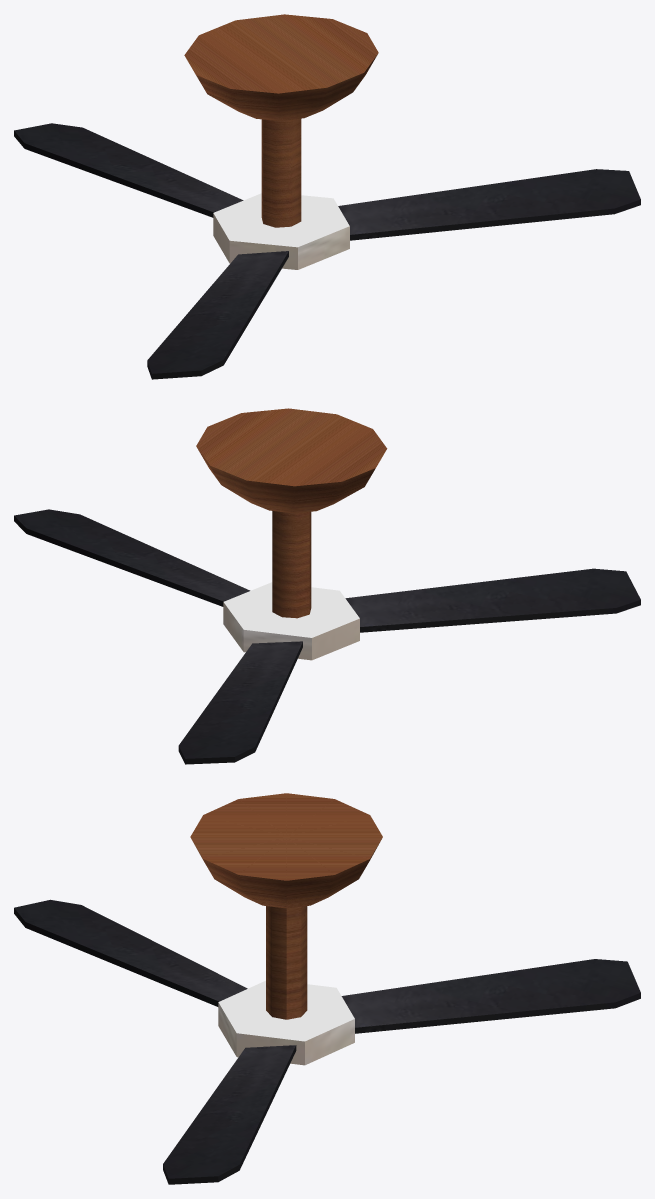
File: LabFan.fbx
3 renders of one model, top to bottom at view 1: azimuth 30°, elevation 25°; view 2: azimuth 150°, elevation 25°; view 3: azimuth 270°, elevation 25°, orthographic. The views are drawn at different scales.
Parts seen in each view (by area): view 1: FanBlade, FanBase; view 2: FanBlade, FanBase; view 3: FanBlade, FanBase.
Part boxes in pixels (left/top/right/bottom): FanBlade: left=14, top=123, right=640, bottom=379; FanBase: left=184, top=14, right=378, bottom=227; FanBlade: left=14, top=509, right=640, bottom=764; FanBase: left=196, top=408, right=387, bottom=618; FanBlade: left=14, top=899, right=640, bottom=1184; FanBase: left=190, top=793, right=382, bottom=1019.
Bounding box in the file's own units: 46.22 × 15.38 × 42.96.
Materials: 2 (2 with a texture image).
